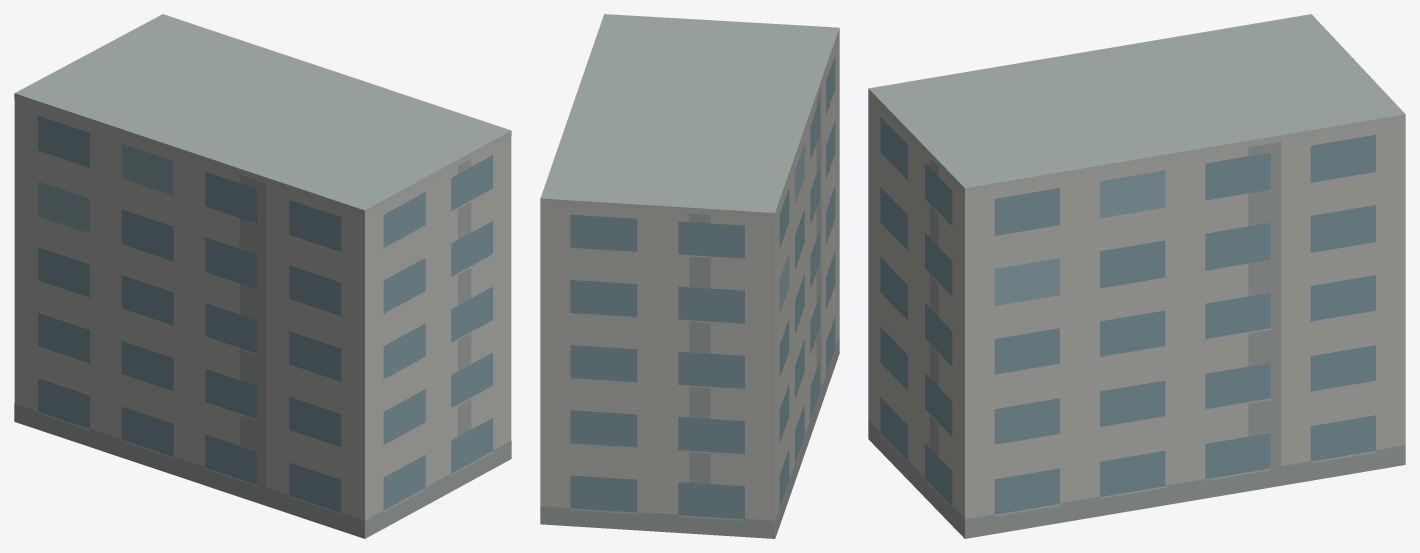
Rendered from survey-upis-32888763.glb.
3 views of the same model, side by side, from view 1: azimuth 30°, elevation 25°; view 2: azimuth 150°, elevation 25°; view 3: azimuth 270°, elevation 25° (orthographic). The views are drawn at different scales.
Visible parts, largest first — view 1: survey-upis-32888763.tmp; view 2: survey-upis-32888763.tmp; view 3: survey-upis-32888763.tmp.
Boxes of the visible parts, x1,y1,x2,y2 form: survey-upis-32888763.tmp: (14, 14, 511, 538); survey-upis-32888763.tmp: (540, 14, 839, 538); survey-upis-32888763.tmp: (868, 14, 1405, 538).
Size of the model in its own units: 13.98 by 13.1 by 18.21.
